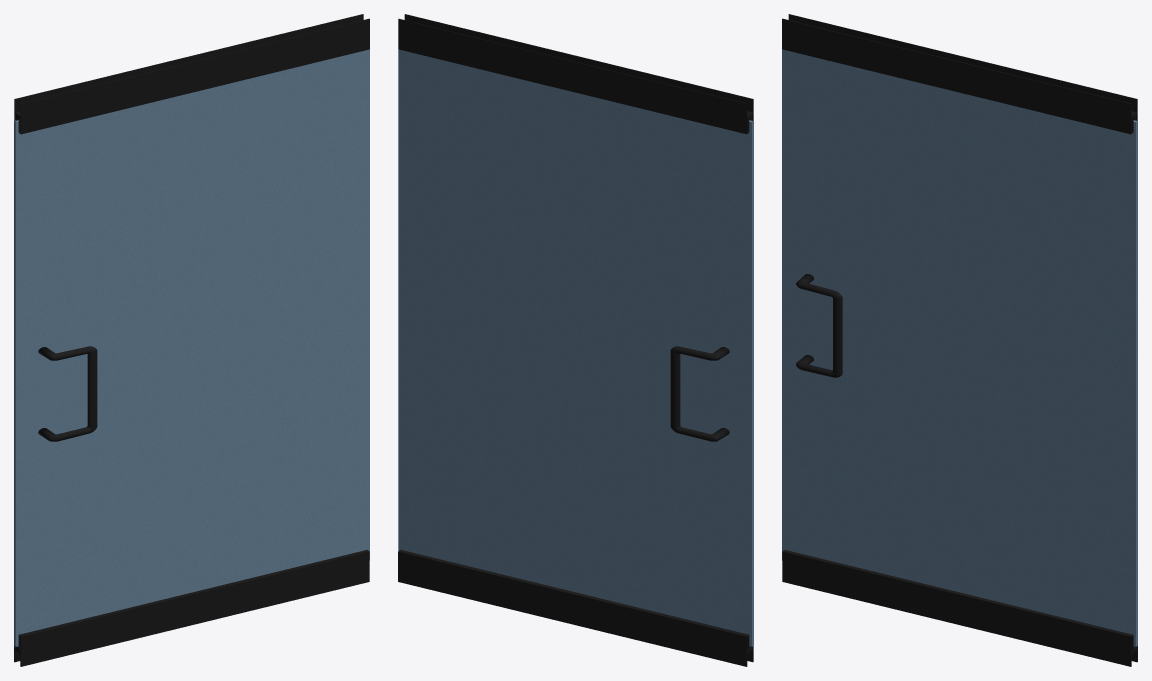
Rendered from ARC0810027.fbx.
3 renders of one model, left to right at view 1: azimuth 30°, elevation 25°; view 2: azimuth 150°, elevation 25°; view 3: azimuth 330°, elevation 25°, orthographic.
Visible parts, largest first — view 1: smARC0810027; view 2: smARC0810027; view 3: smARC0810027.
Part boxes in pixels (<box>): smARC0810027: <box>14,14,369,666</box>; smARC0810027: <box>398,14,753,666</box>; smARC0810027: <box>782,14,1137,666</box>.
Size of the model in its own units: 195 by 296 by 24.98.
1 material, 1 textured.
